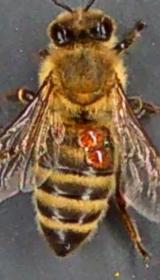varroa_mite: (76, 118, 106, 150), (86, 145, 115, 172)
